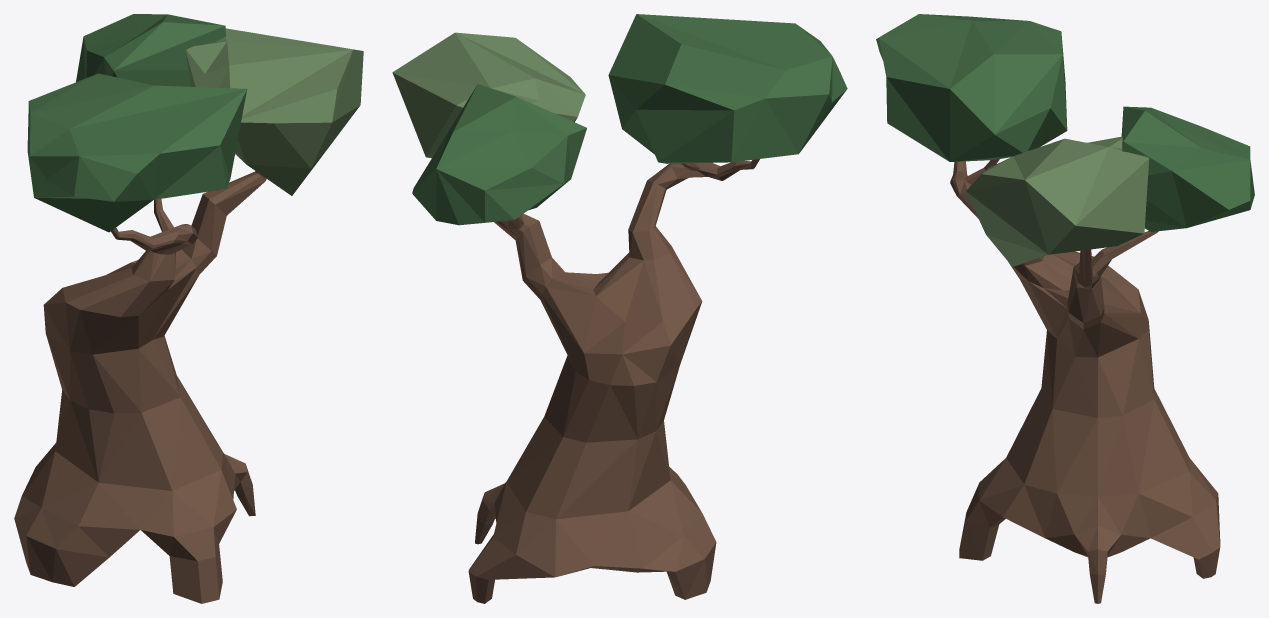
Rendered from _tree_19.fbx.
The picture shows the model from 3 angles, left to right: view 1: azimuth 30°, elevation 25°; view 2: azimuth 150°, elevation 25°; view 3: azimuth 270°, elevation 25°; orthographic projection. The views are drawn at different scales.
Visible parts, largest first — view 1: tree_19; view 2: tree_19; view 3: tree_19.
Part boxes in pixels (x1,y1,x2,y2): tree_19: (14,14,363,603); tree_19: (392,14,847,603); tree_19: (876,14,1254,603).
Bounding box in the file's own units: 761 × 954 × 679.
